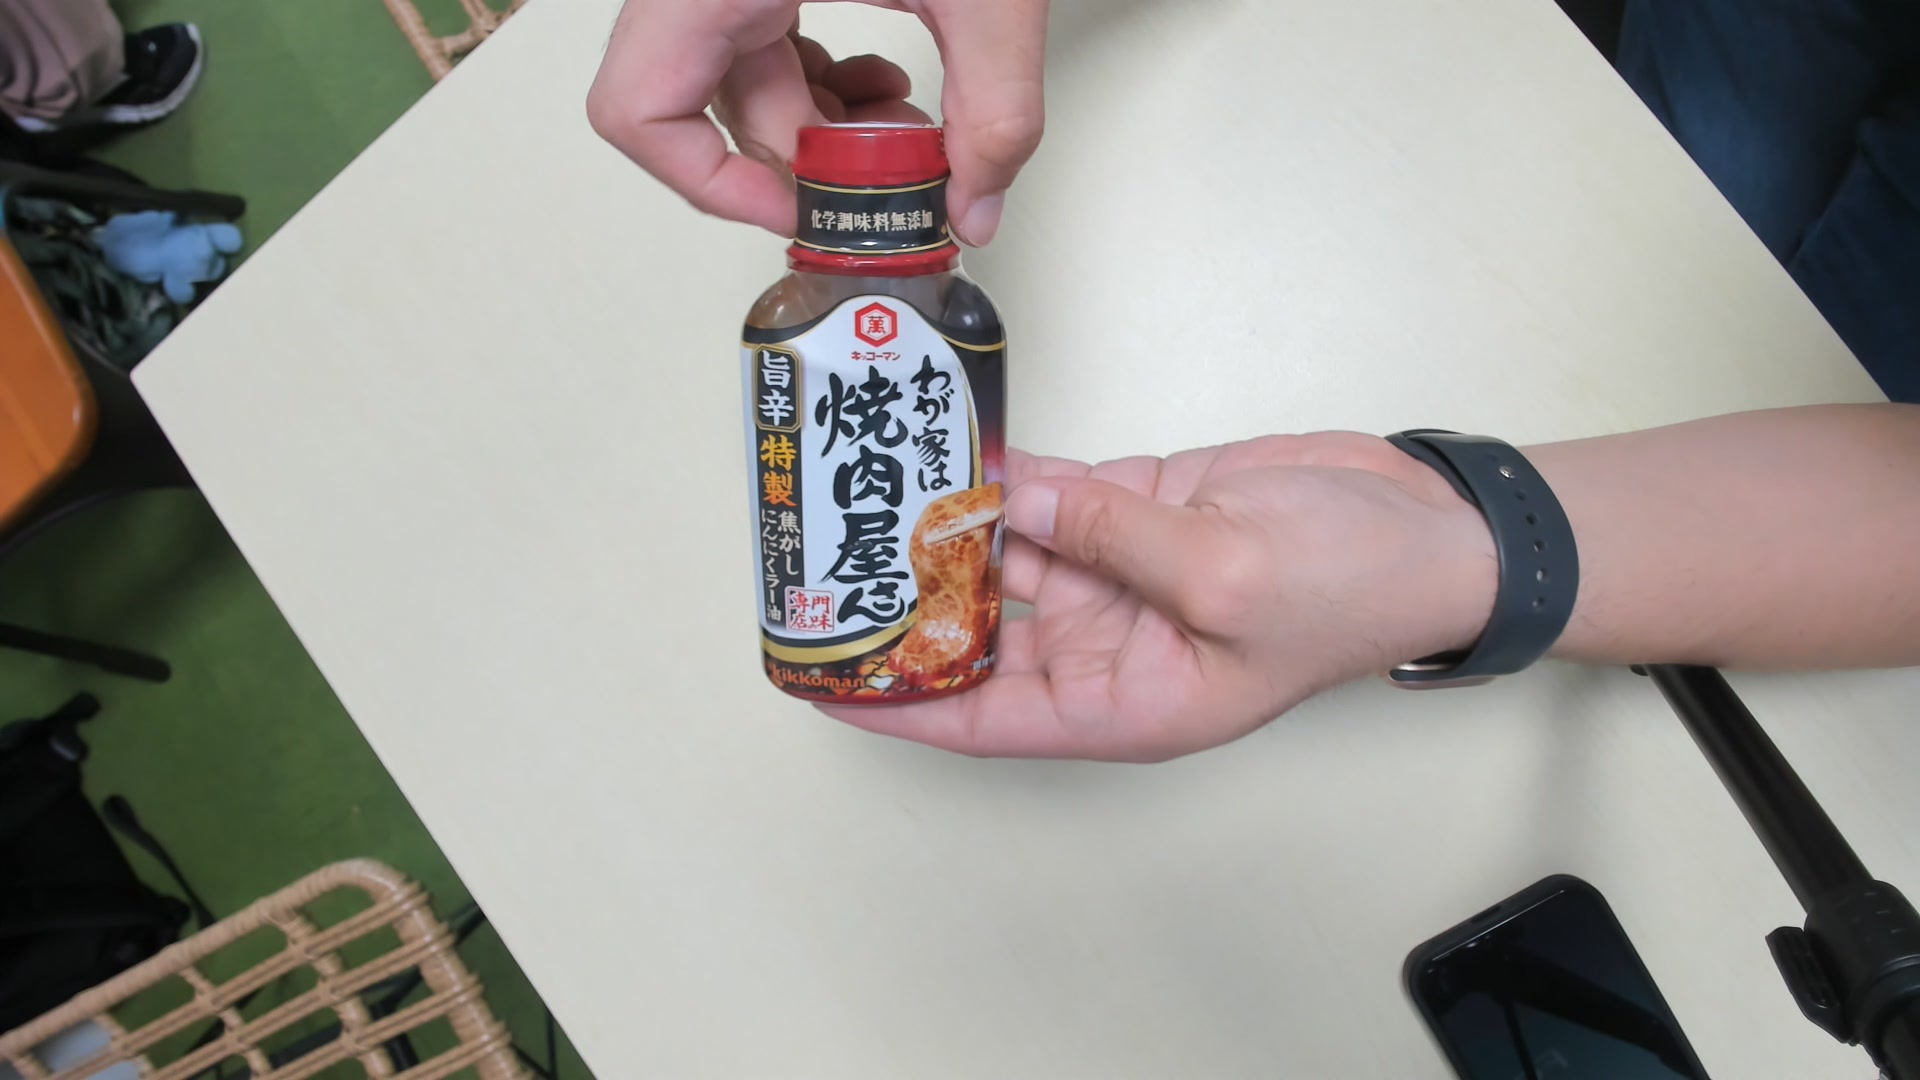OtherSauceDressing_200-299g_NonHalal_NonHealthy: (735, 120, 1010, 705)
